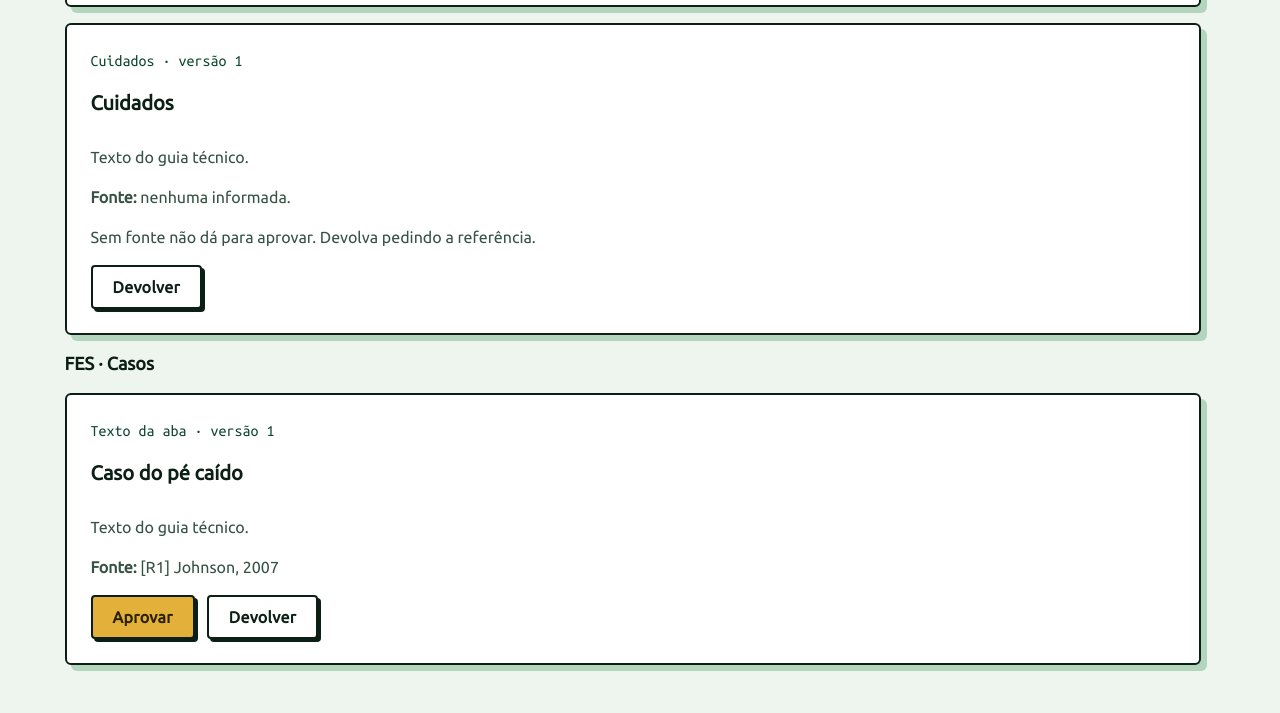
it: deveDevolverComOMotivoEFecharODialogo
The width and height of the screenshot is (1280, 713).
(page scrolled)
Click the button with aria-label "Devolver Caso do pé caído": point(262, 617) [207, 595, 318, 639]
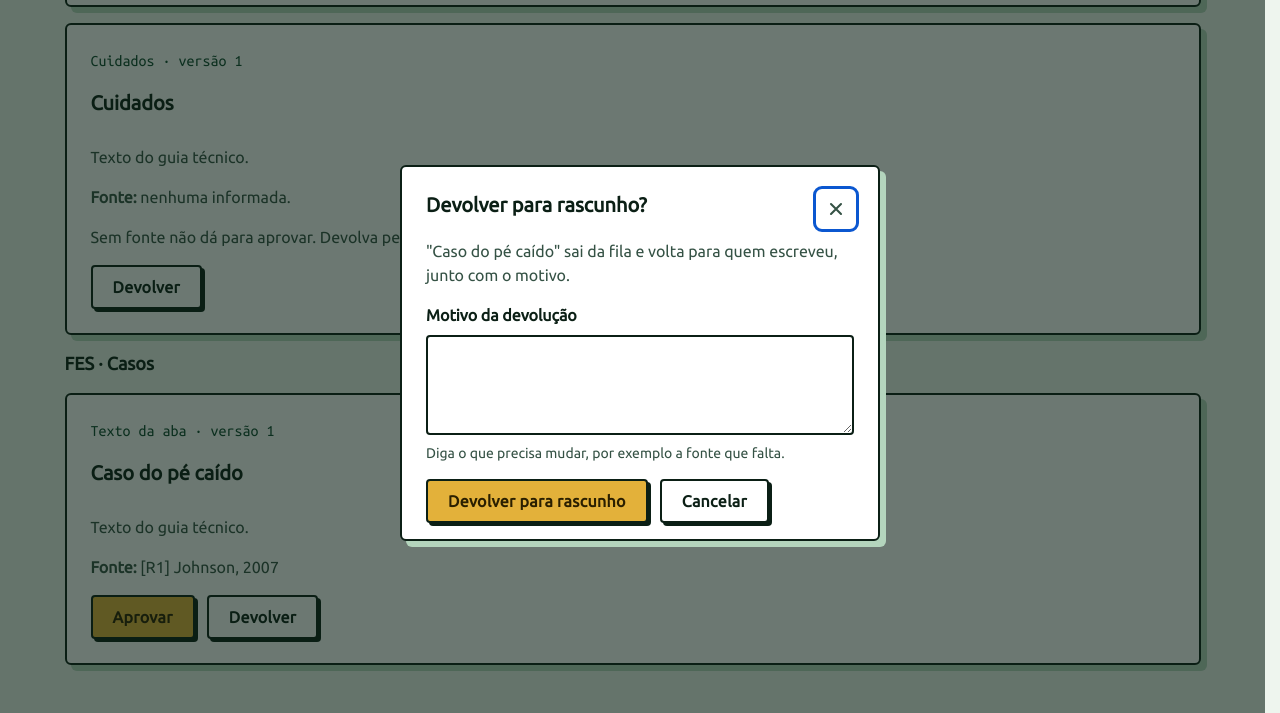
In the text box labelled "Motivo da devolução": point(640, 385) [428, 337, 852, 433], type "Falta a fonte do caso."
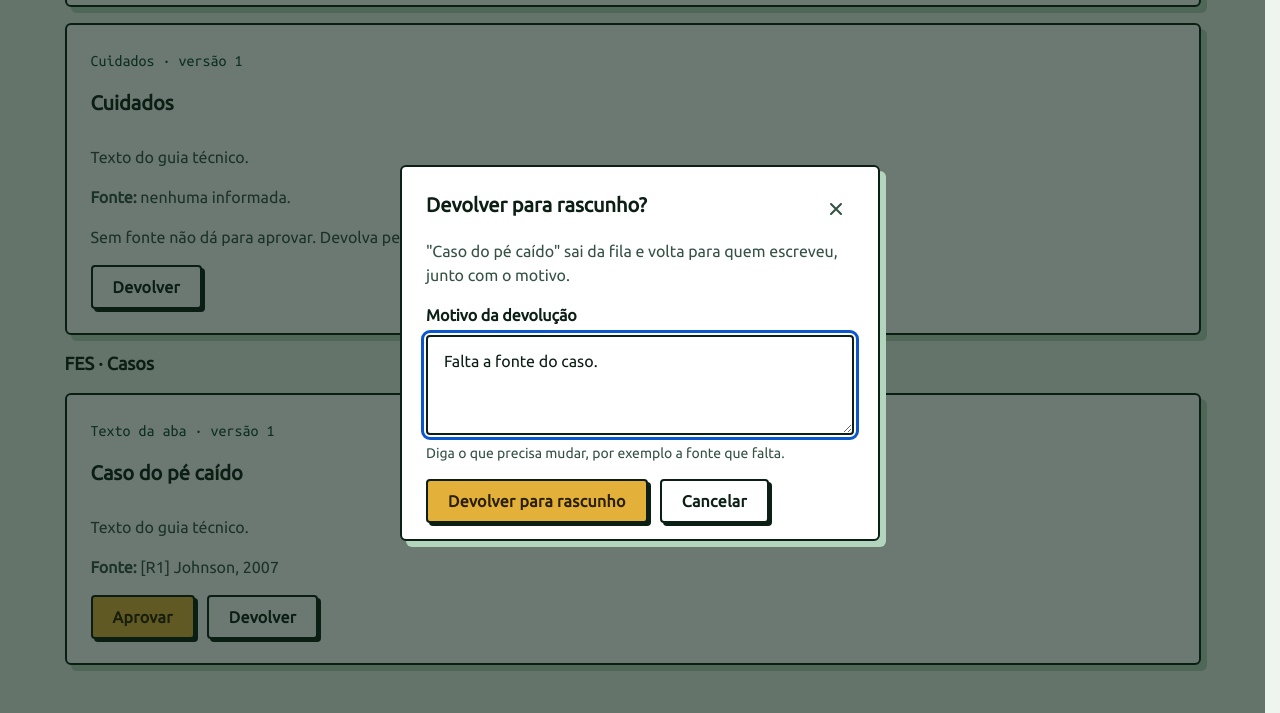
Click the button "Devolver para rascunho": point(537, 501) [426, 479, 648, 523]
(page scrolled)
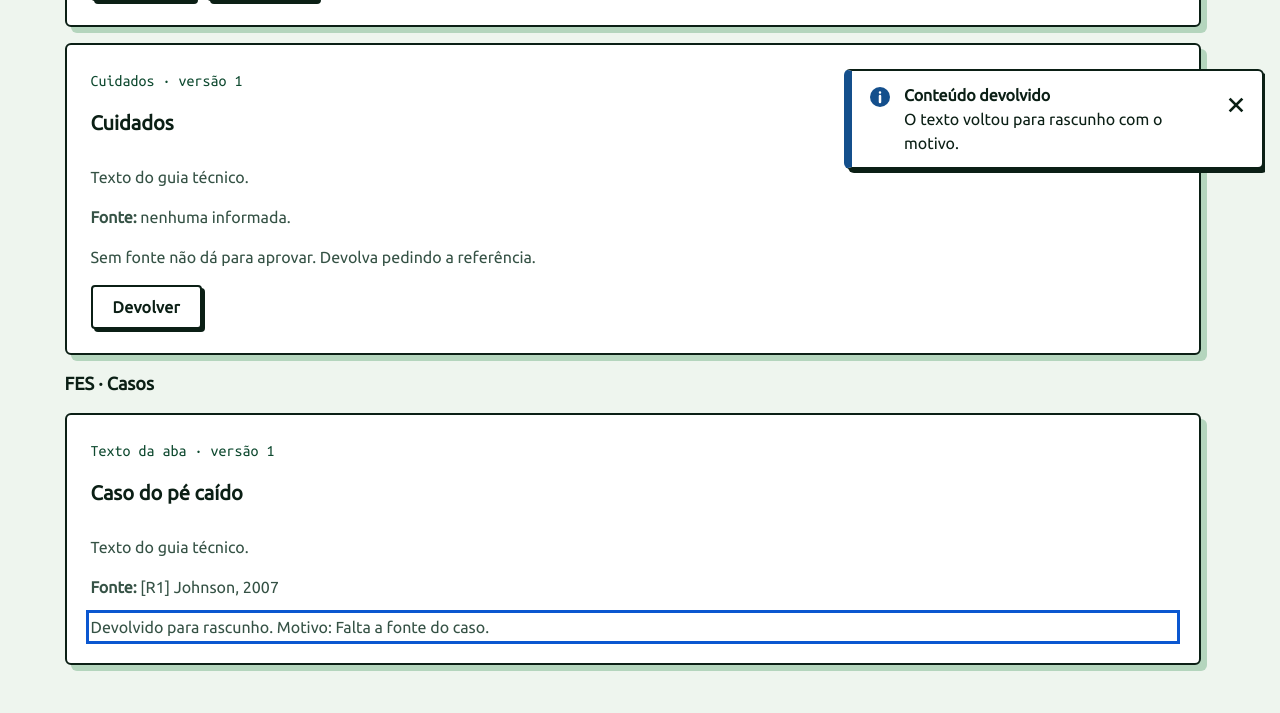
Check: the text "Devolvido para rascunho. Motivo: Falta a fonte do caso." is shown, box [90, 618, 489, 636]
Check: the text "Conteúdo devolvido" is shown, box [904, 86, 1050, 104]
